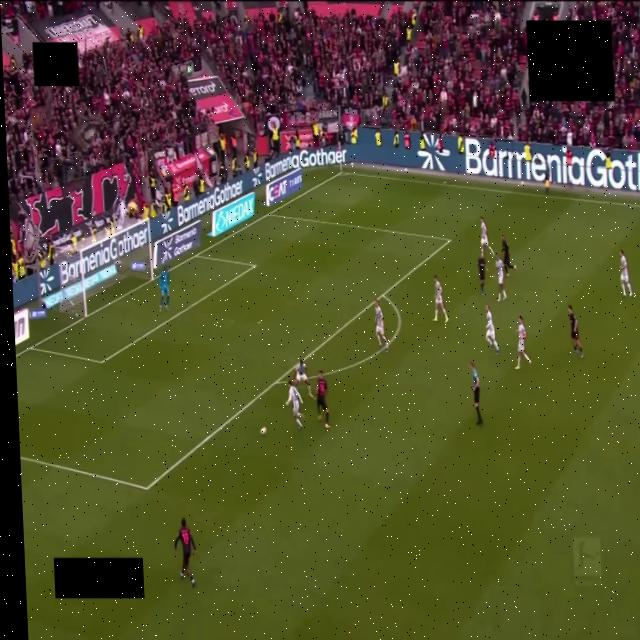ball: (260, 427, 266, 436)
player: (175, 518, 196, 586), (515, 317, 531, 369), (286, 381, 303, 429), (316, 371, 330, 429), (568, 305, 583, 358), (374, 300, 389, 351), (434, 276, 448, 322), (486, 305, 499, 354), (296, 360, 313, 397), (620, 250, 632, 296), (502, 235, 515, 275), (481, 216, 494, 255), (496, 256, 506, 302), (159, 266, 169, 311), (478, 250, 486, 295)
referee: (470, 363, 482, 425)
